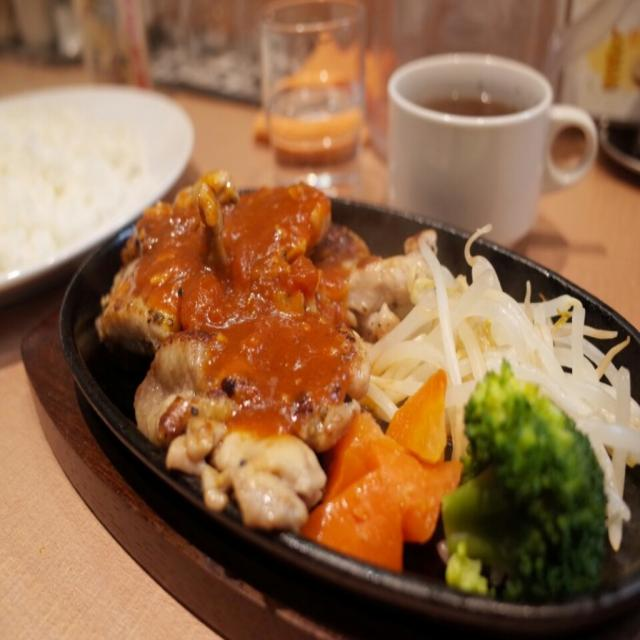Tea: (414, 93, 518, 121)
